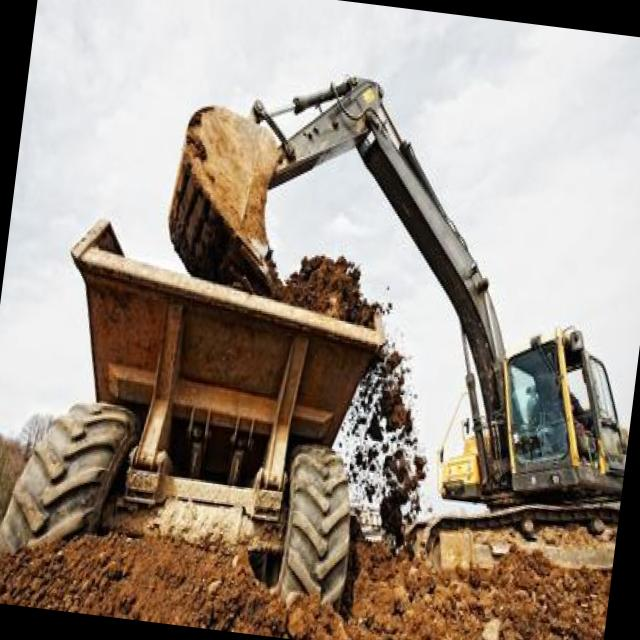Camion volquete: (0, 210, 397, 621)
Excavadora: (129, 20, 640, 598)
